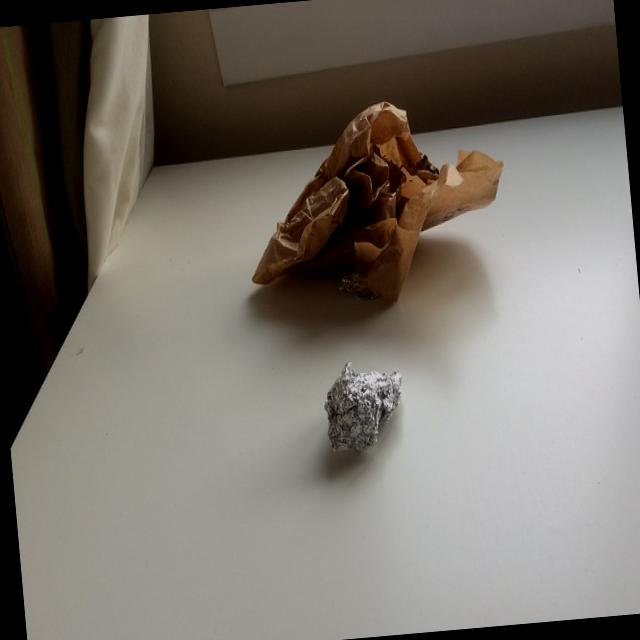Recycle: (234, 84, 516, 310)
Trash: (321, 354, 410, 462)
